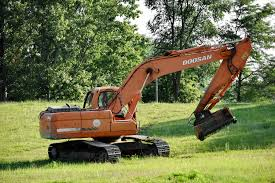excavator: (38, 37, 251, 163)
